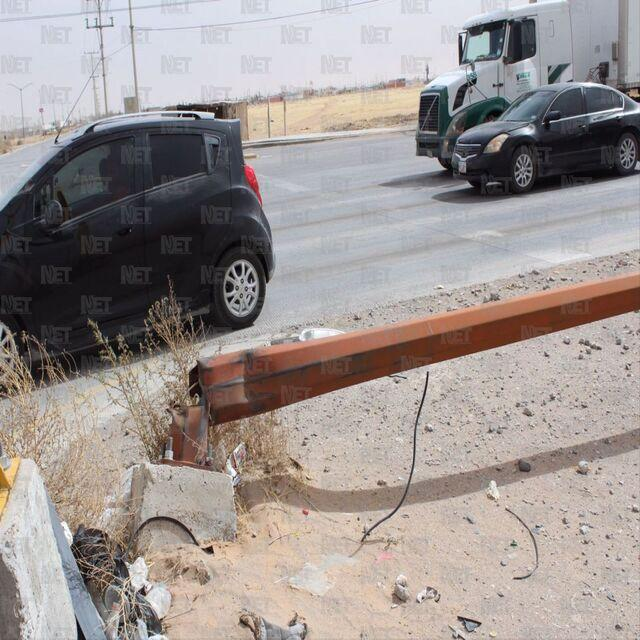Inclined Pole: (122, 268, 640, 553)
